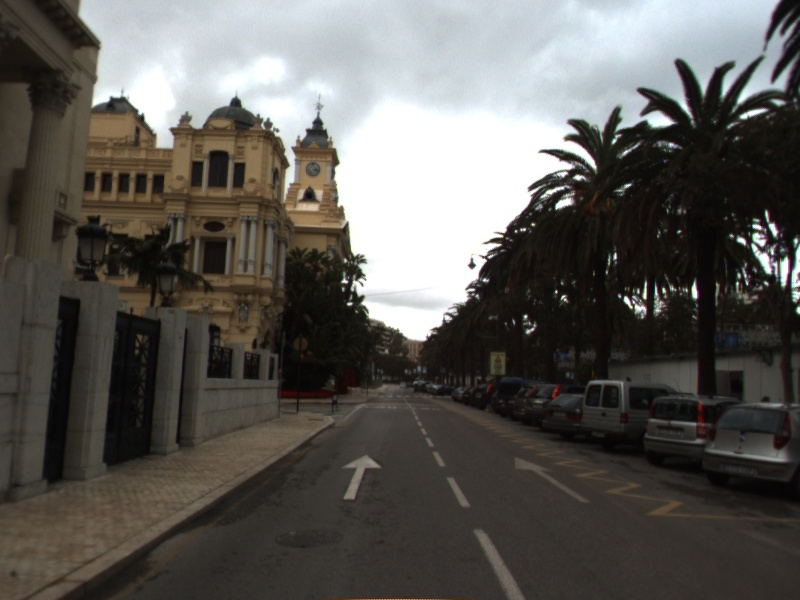STRAIGHT: (513, 455, 593, 505), (340, 452, 384, 501)
